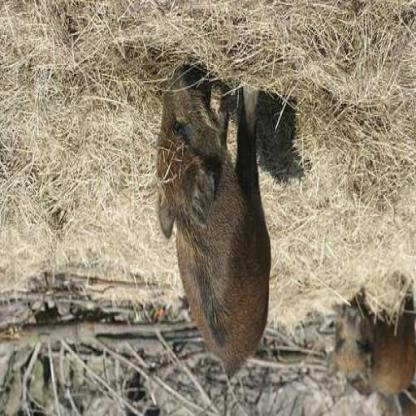boar: (151, 72, 298, 391), (303, 287, 415, 401)
